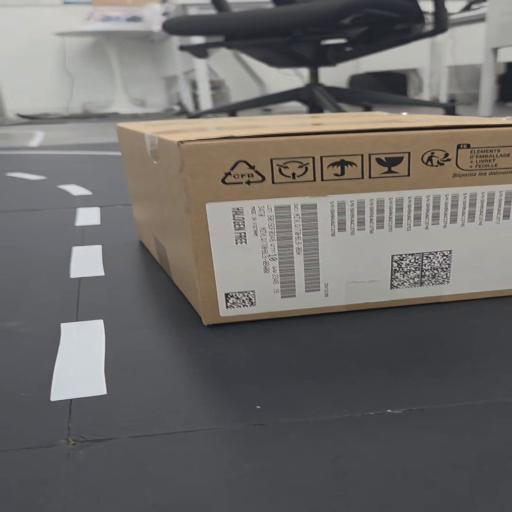Box: (117, 110, 512, 326)
